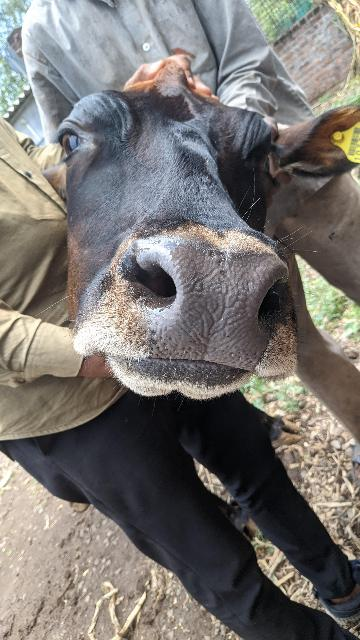Muzzle: (172, 248, 262, 366)
